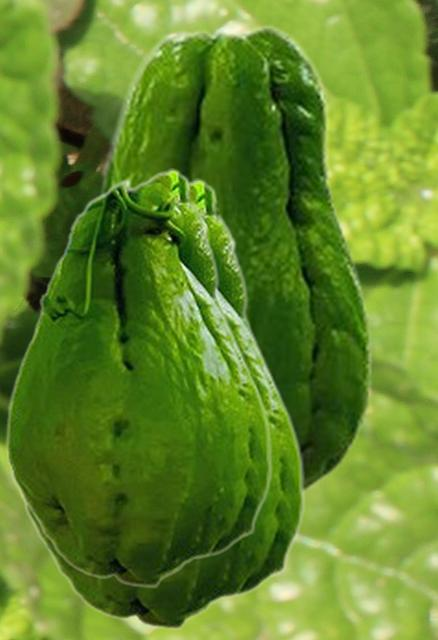sayote: (95, 23, 372, 495), (18, 178, 305, 630), (5, 168, 272, 588)
